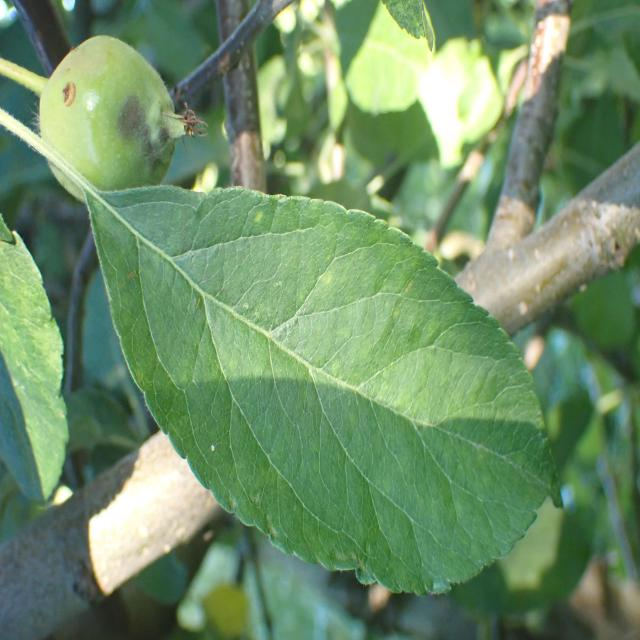scab: (132, 194, 514, 539)
